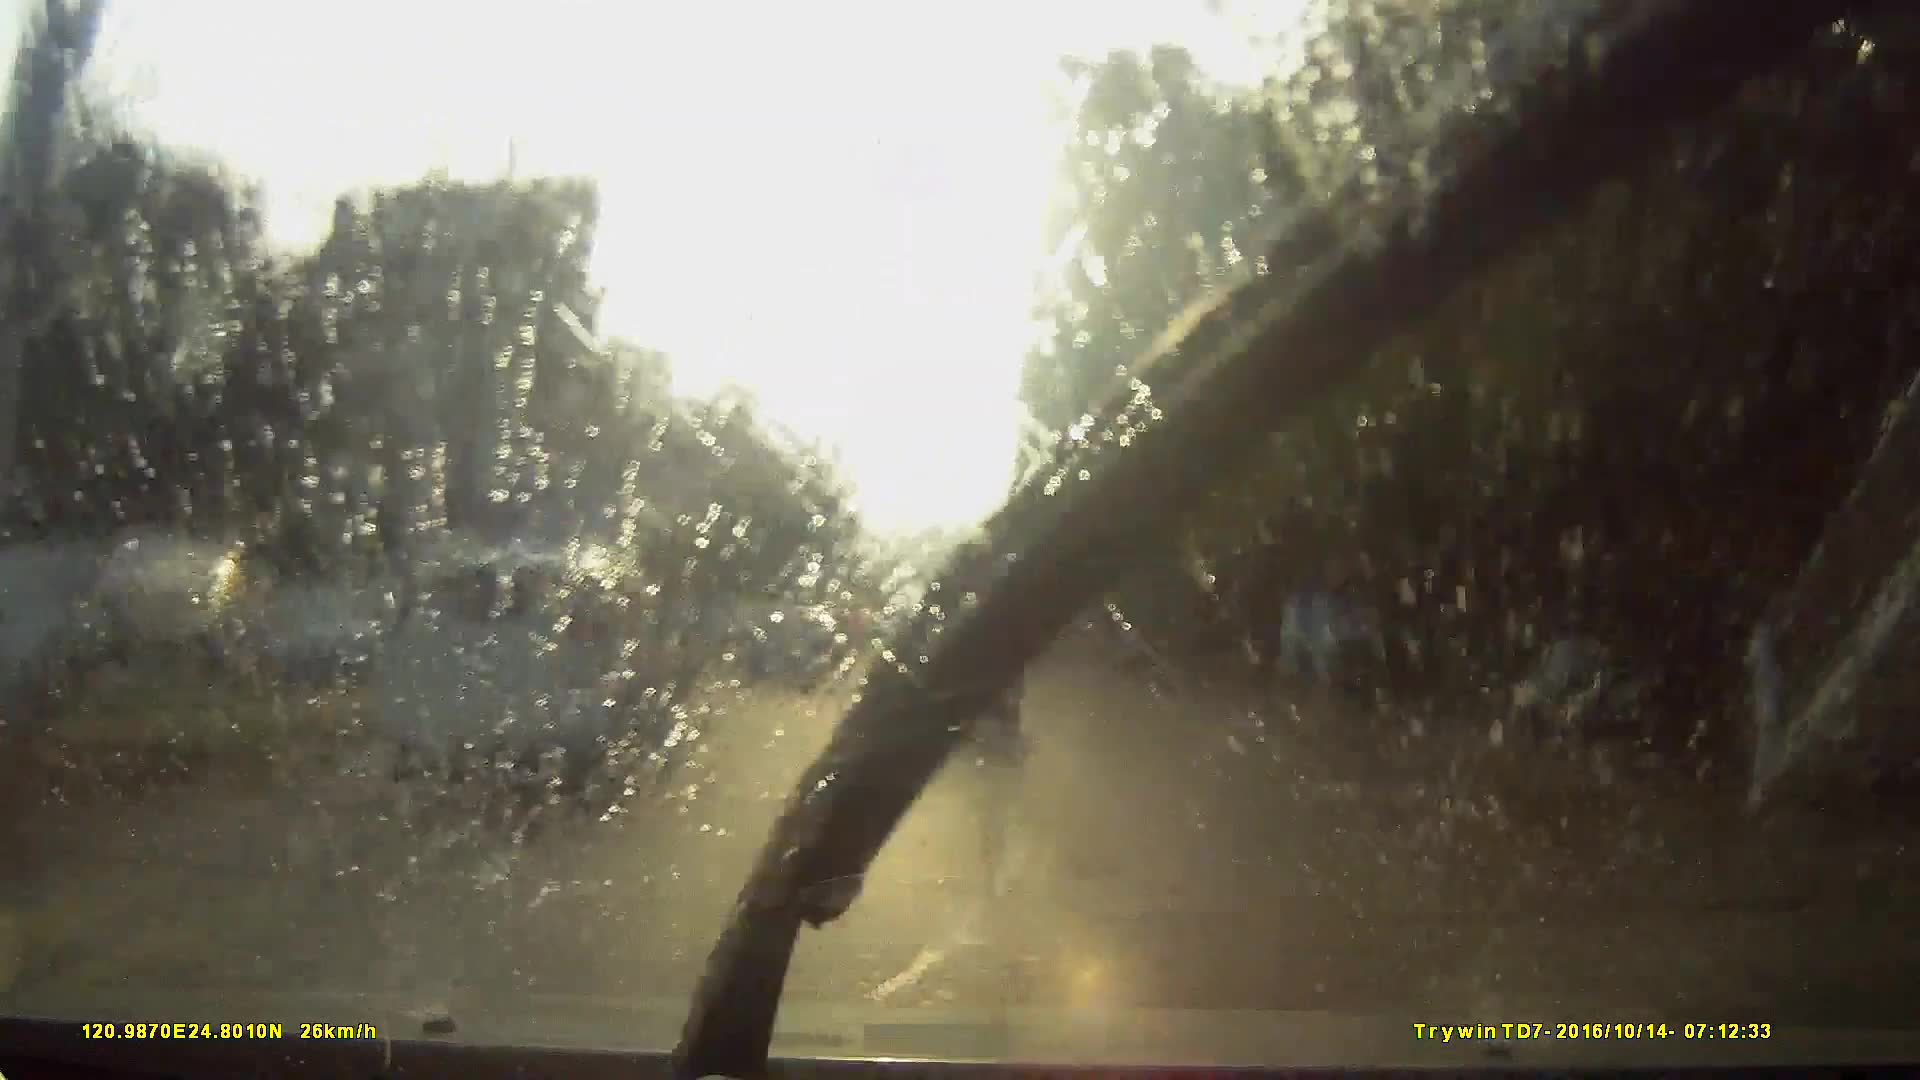vehicle: (251, 556, 684, 868), (382, 546, 698, 793), (469, 488, 719, 673), (868, 596, 1023, 756), (996, 556, 1101, 683), (736, 611, 845, 695), (866, 638, 915, 687)
